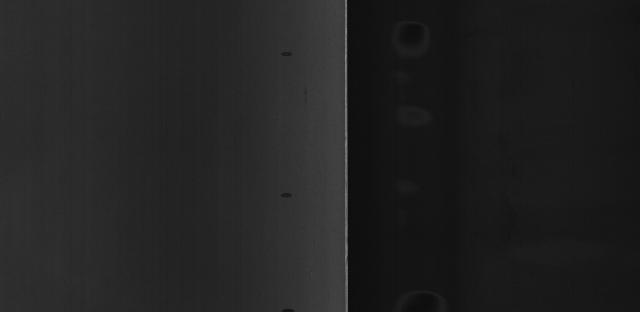oil_spot: (269, 42, 298, 71), (279, 180, 304, 208)
